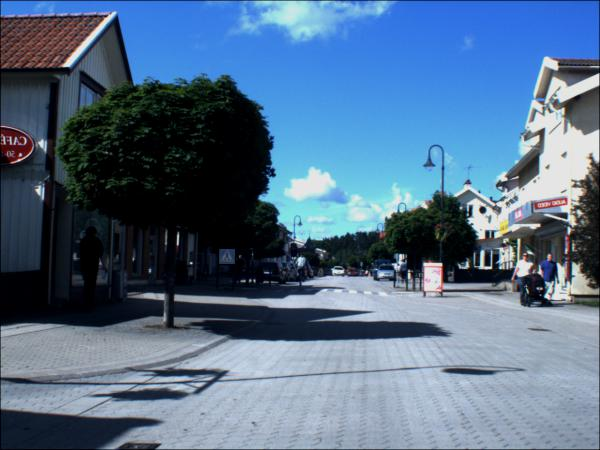NO_PARKING: (291, 251, 298, 259)
PEDESTRIAN_CROSSING: (219, 250, 236, 266)
